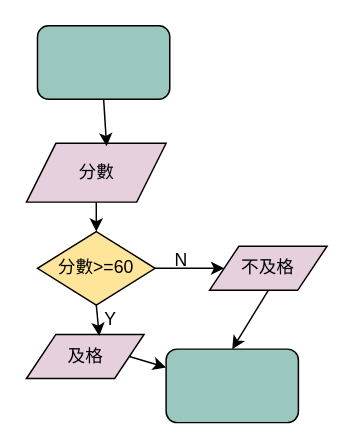
Image size: 353x448. Some labels were removed from this diagram. The shapes that lost their labels are listed below. From the top down, each one's centre as x and y in pixels, then its label:
At (x=103, y=61): "開始".
At (x=231, y=385): "結束".
